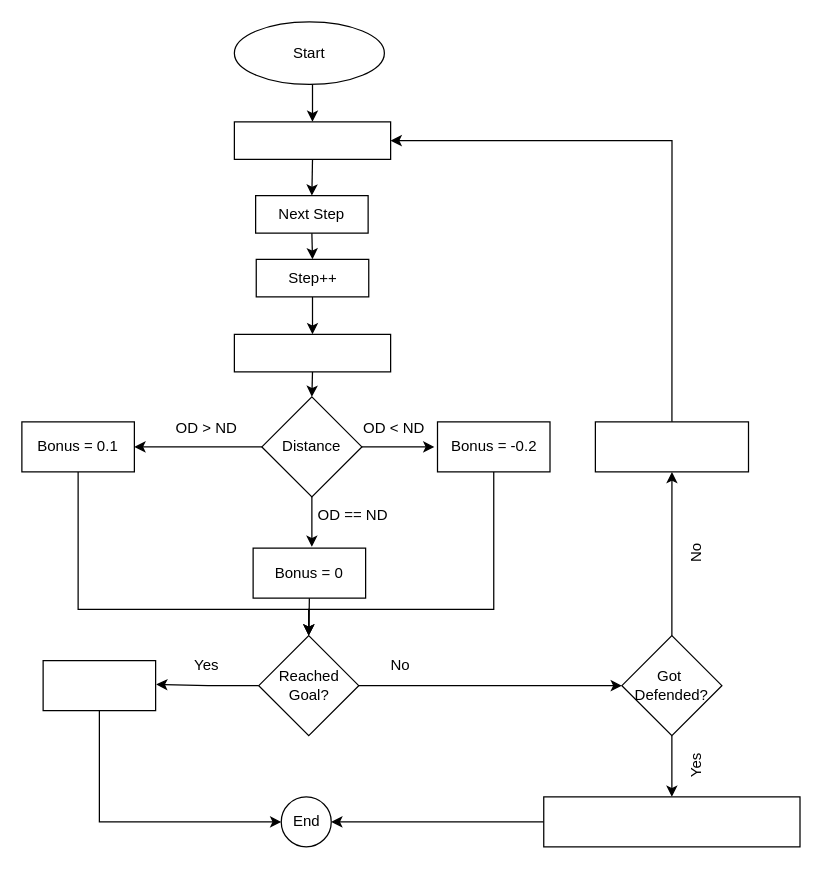
The diagram is 823 pixels wide and 869 high, and some of its shapes have lost their labels. Each missing label, with the centre of its shape:
"Calculate Distance from Goal (ND)" goes at [312,352].
"Calculate Distance from Goal (OD)" goes at [312,140].
"Reward += 10 + (Step/100)" goes at [99,685].
"Reward += Bonus - (Step / 100)" goes at [671,446].
"Reward = abs(Reward) * (-1) - 10 - (Step / 100)" goes at [671,821].
